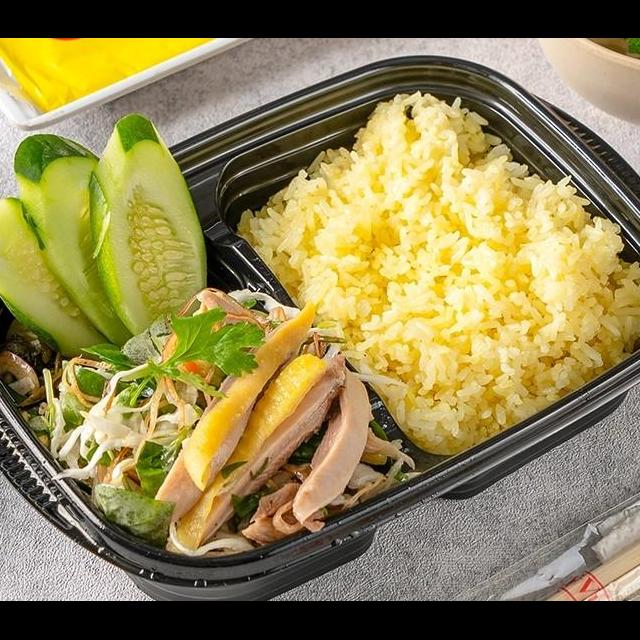com: (231, 87, 640, 459)
com ga: (0, 88, 640, 601)
rau ram: (89, 426, 190, 550), (68, 339, 184, 426)
thit ga: (142, 297, 418, 564)
